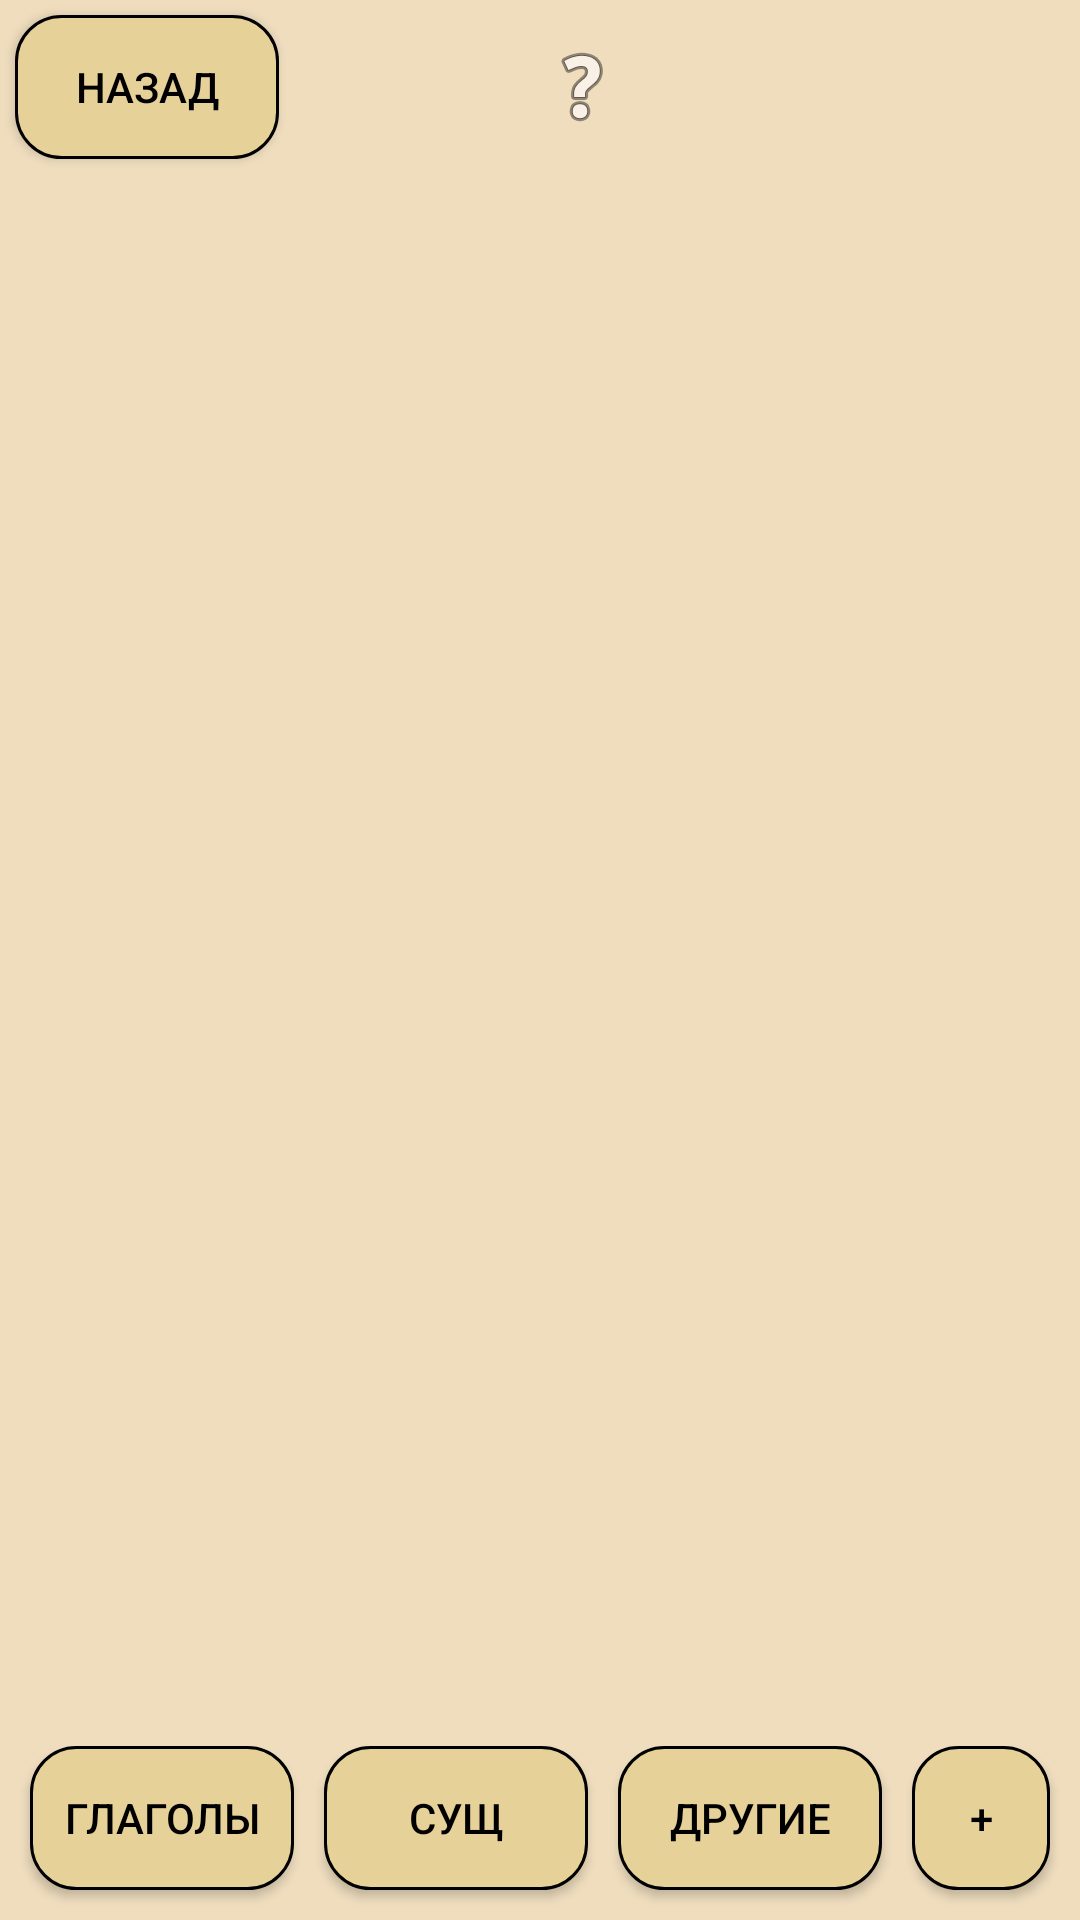

Icons on this 1080px×1920px Android screen, each with its box as (x1, y1, x2, y2):
help: (561, 53, 603, 121)
